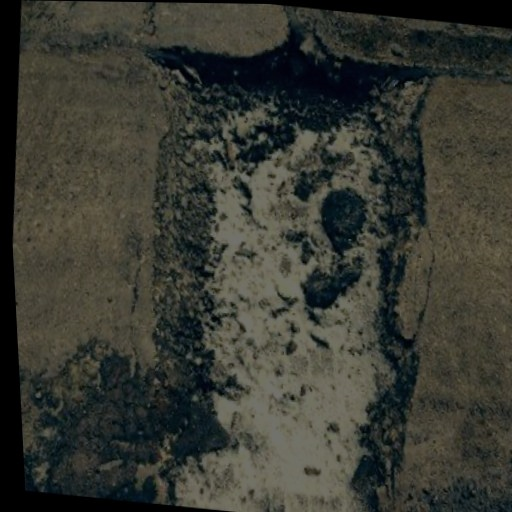pothole: (93, 15, 466, 512)
